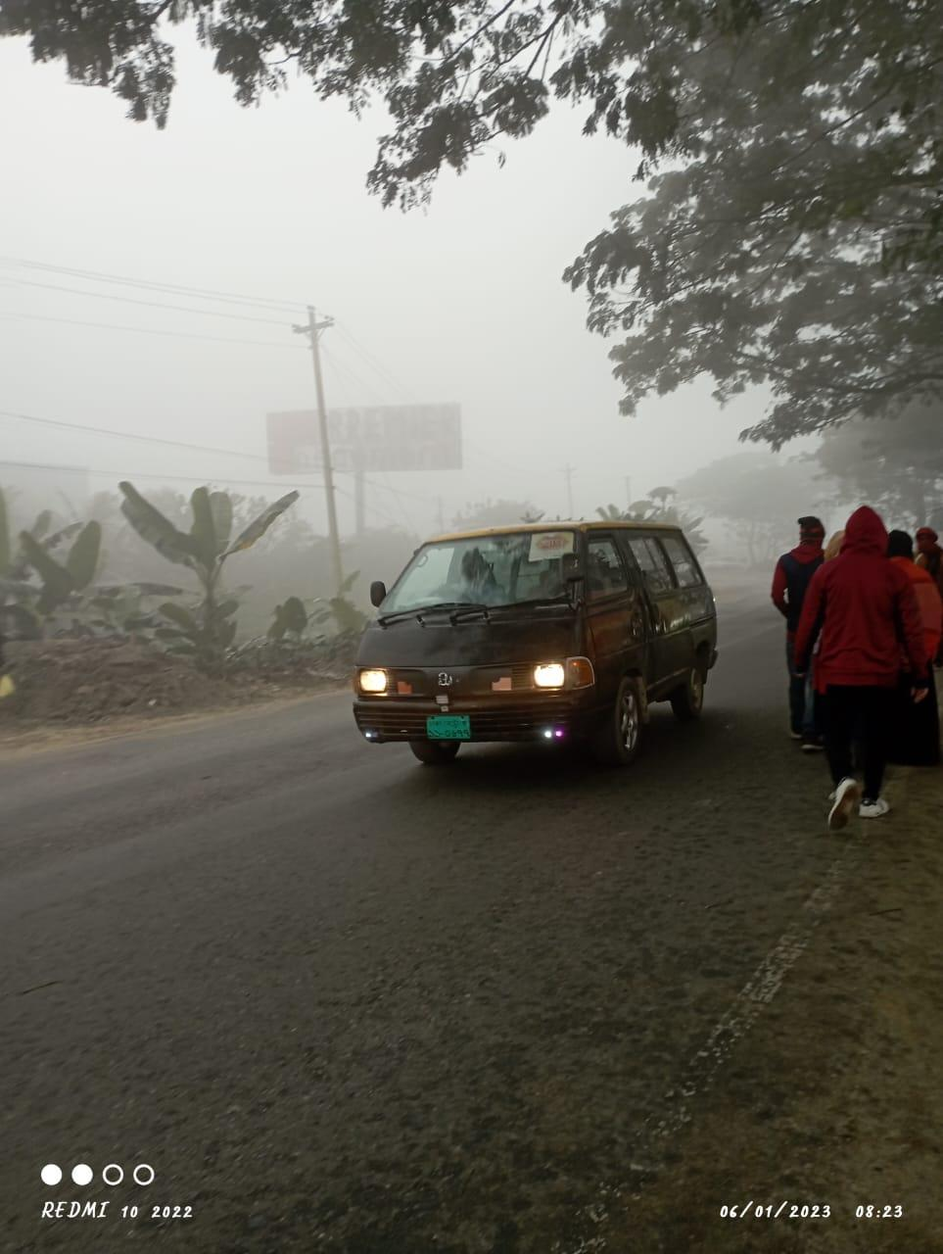Car: (343, 499, 729, 764)
